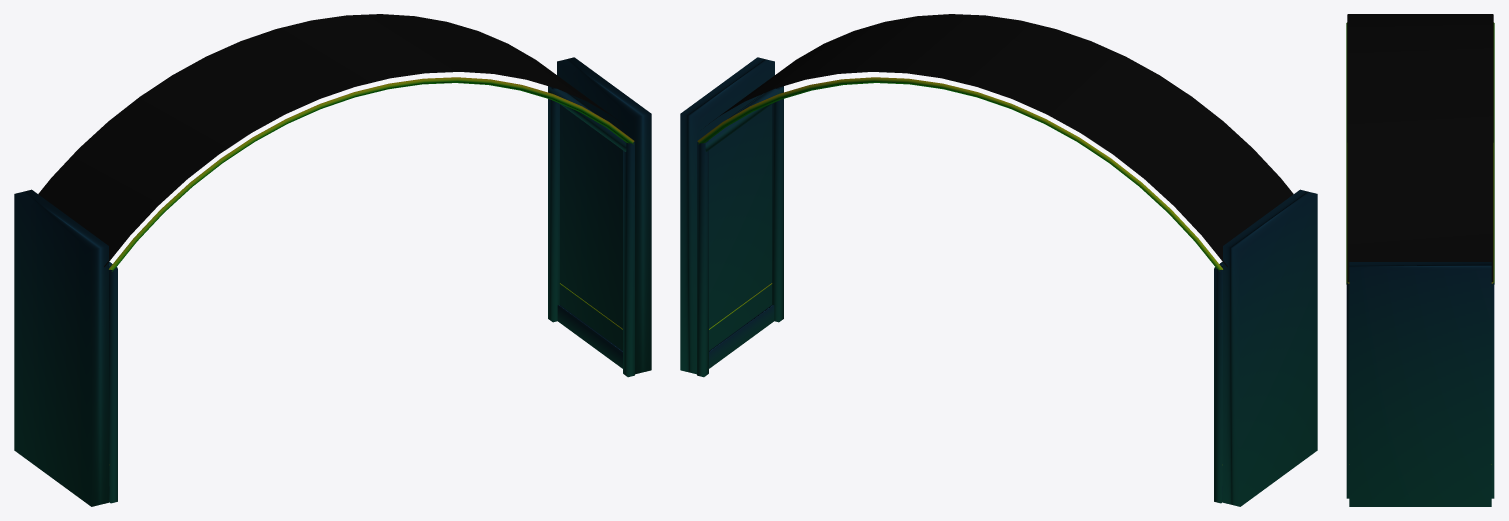
File: sanctum_nave_bay.glb
The picture shows the model from 3 angles, left to right: view 1: azimuth 30°, elevation 25°; view 2: azimuth 150°, elevation 25°; view 3: azimuth 270°, elevation 25°; orthographic projection. The views are drawn at different scales.
Parts seen in each view (by area): view 1: sanctum_nave_bay; view 2: sanctum_nave_bay; view 3: sanctum_nave_bay.
Boxes of the visible parts, box(x1,y1,x2,y2) form: sanctum_nave_bay: box(14, 14, 651, 506); sanctum_nave_bay: box(680, 14, 1317, 506); sanctum_nave_bay: box(1346, 14, 1494, 506).
Size of what is drawn, in the model's own units: 25.08 by 15.27 by 6.22.
